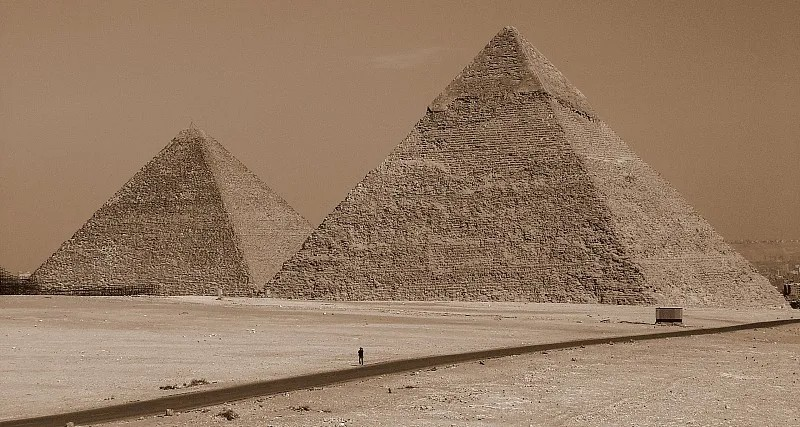Pyramid: (260, 24, 794, 313), (29, 125, 316, 297)
